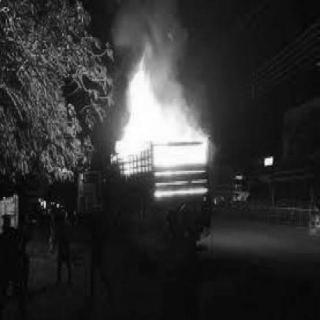Fire: (112, 56, 226, 194)
